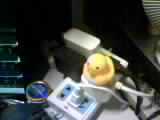duck: (79, 50, 111, 82)
